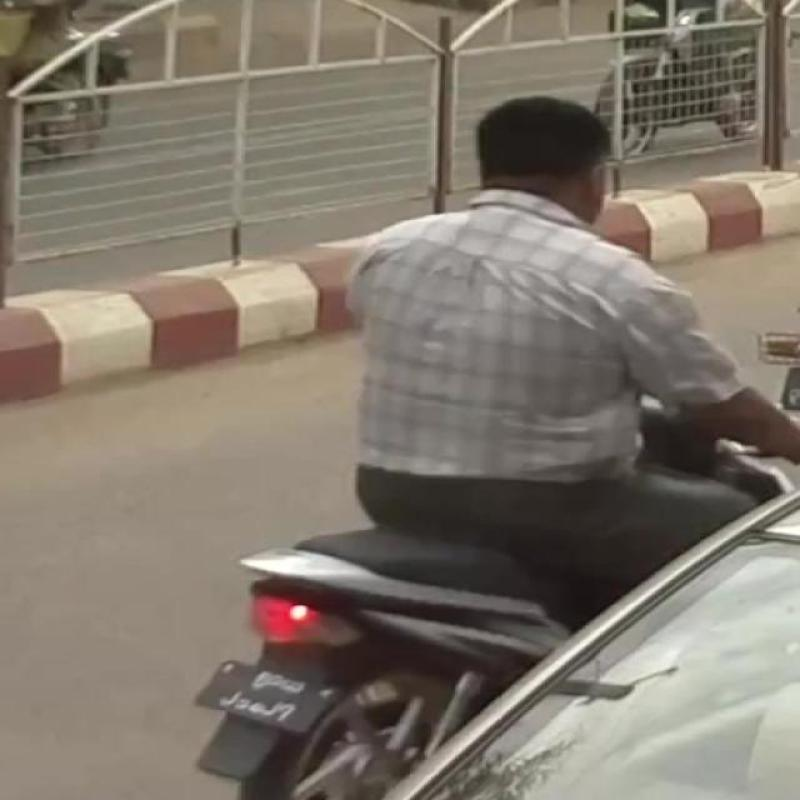nohelmet: (468, 79, 658, 236)
